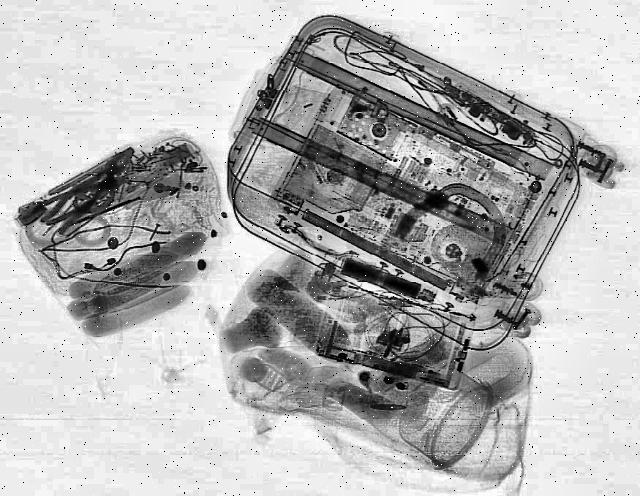Pliers: (34, 144, 148, 232), (28, 165, 138, 236)
